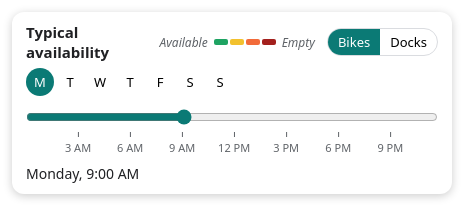
Test case: App › shows Limited data for a thin profile only
The image size is (473, 217).
Expected: the text "Limited data" is not shown
Click the button named "Wednesday": click(100, 82) [86,68,114,96]
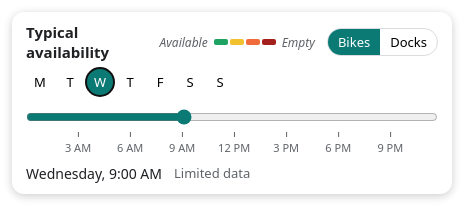
Now the text "Limited data" is shown, box [174,164,250,182]
